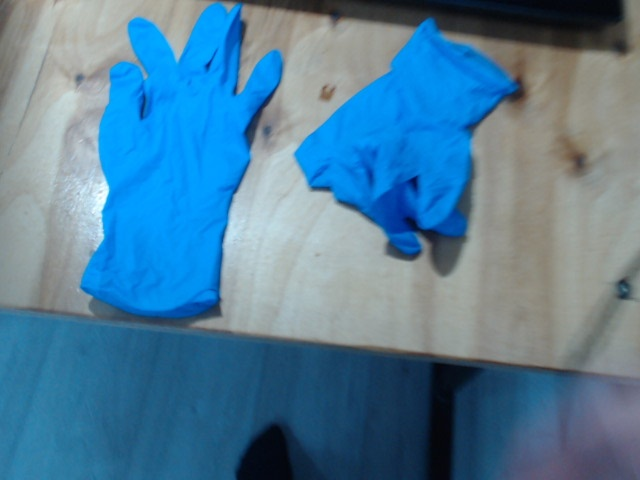medical_glove: (80, 3, 283, 315), (294, 17, 518, 255)
